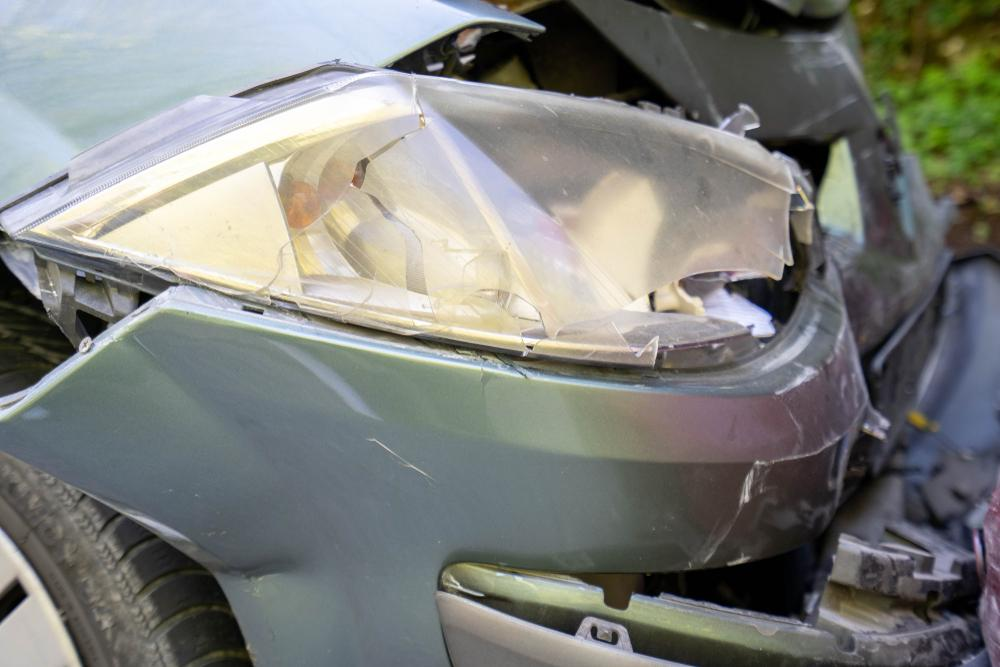dent: (171, 537, 327, 611)
lamp broken: (8, 71, 817, 366)
